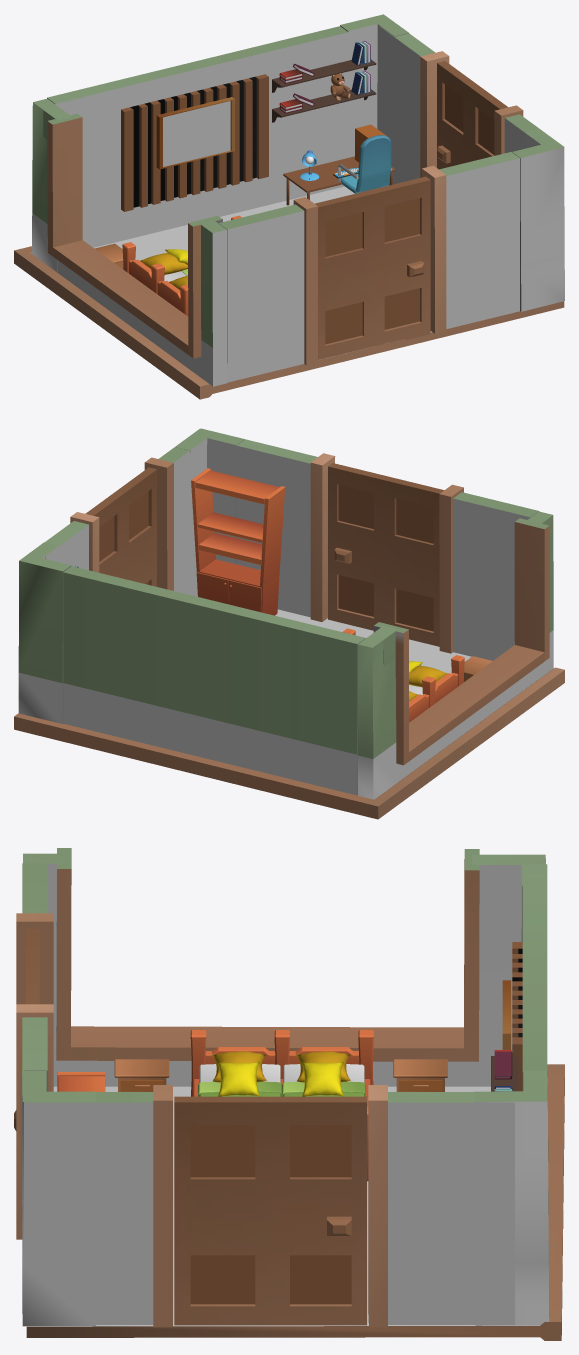
File: DORMITORIO completa color VERDE.fbx
3 renders of one model, top to bottom at view 1: azimuth 30°, elevation 25°; view 2: azimuth 150°, elevation 25°; view 3: azimuth 270°, elevation 25°, orthographic. The views are drawn at different scales.
Visible parts, largest first — view 1: paret_puerta15, paret_basica11, puerta7, paret_con_ventana_grande7, decor_paret, suelo, paret_puerta16, paret_esquina_33, puerta6, mesa_ordena, paret_esquina13, paret_esquina_32 (+3 smaller); view 2: paret_basica11, paret_puerta15, puerta7, paret_con_ventana_grande7, suelo, mueble, paret_puerta16, paret_esquina_32, paret_esquina13, puerta6, paret_esquina_33, cama; view 3: paret_puerta16, puerta6, paret_con_ventana_grande7, suelo, cama, paret_esquina_32, paret_puerta15, paret_esquina_33, paret_basica11, paret_esquina13, decor_paret, mesita2 (+4 smaller).
Boxes of the visible parts, bbox=[...] form: paret_puerta15: bbox=[219, 152, 519, 382]; paret_basica11: bbox=[47, 26, 348, 247]; puerta7: bbox=[315, 176, 430, 359]; paret_con_ventana_grande7: bbox=[43, 110, 227, 386]; decor_paret: bbox=[121, 74, 268, 211]; suelo: bbox=[14, 185, 564, 399]; paret_puerta16: bbox=[380, 26, 563, 185]; paret_esquina_33: bbox=[512, 128, 564, 311]; puerta6: bbox=[437, 61, 507, 169]; mesa_ordena: bbox=[283, 124, 395, 205]; paret_esquina13: bbox=[32, 97, 84, 272]; paret_esquina_32: bbox=[340, 14, 408, 157]; paret_basica11: bbox=[63, 566, 365, 795]; paret_puerta15: bbox=[236, 439, 538, 660]; puerta7: bbox=[328, 463, 444, 646]; paret_con_ventana_grande7: bbox=[373, 511, 553, 781]; suelo: bbox=[14, 609, 564, 819]; mueble: bbox=[191, 468, 285, 615]; paret_puerta16: bbox=[45, 429, 206, 596]; paret_esquina_32: bbox=[18, 542, 71, 723]; paret_esquina13: bbox=[358, 626, 398, 799]; puerta6: bbox=[85, 467, 156, 586]; paret_esquina_33: bbox=[176, 428, 244, 564]; cama: bbox=[342, 628, 464, 722]; paret_puerta16: bbox=[24, 1085, 514, 1327]; puerta6: bbox=[174, 1096, 366, 1325]; paret_con_ventana_grande7: bbox=[23, 848, 512, 1086]; suelo: bbox=[26, 1064, 564, 1340]; cama: bbox=[190, 1030, 373, 1181]; paret_esquina_32: bbox=[474, 1070, 549, 1325]; paret_puerta15: bbox=[16, 863, 53, 1239]; paret_esquina_33: bbox=[22, 1071, 95, 1326]; paret_basica11: bbox=[522, 864, 547, 1090]; paret_esquina13: bbox=[472, 854, 545, 971]; decor_paret: bbox=[502, 942, 522, 1091]; mesita2: bbox=[393, 1059, 447, 1091].
Size of the model in its own units: 836 by 361 by 742.
